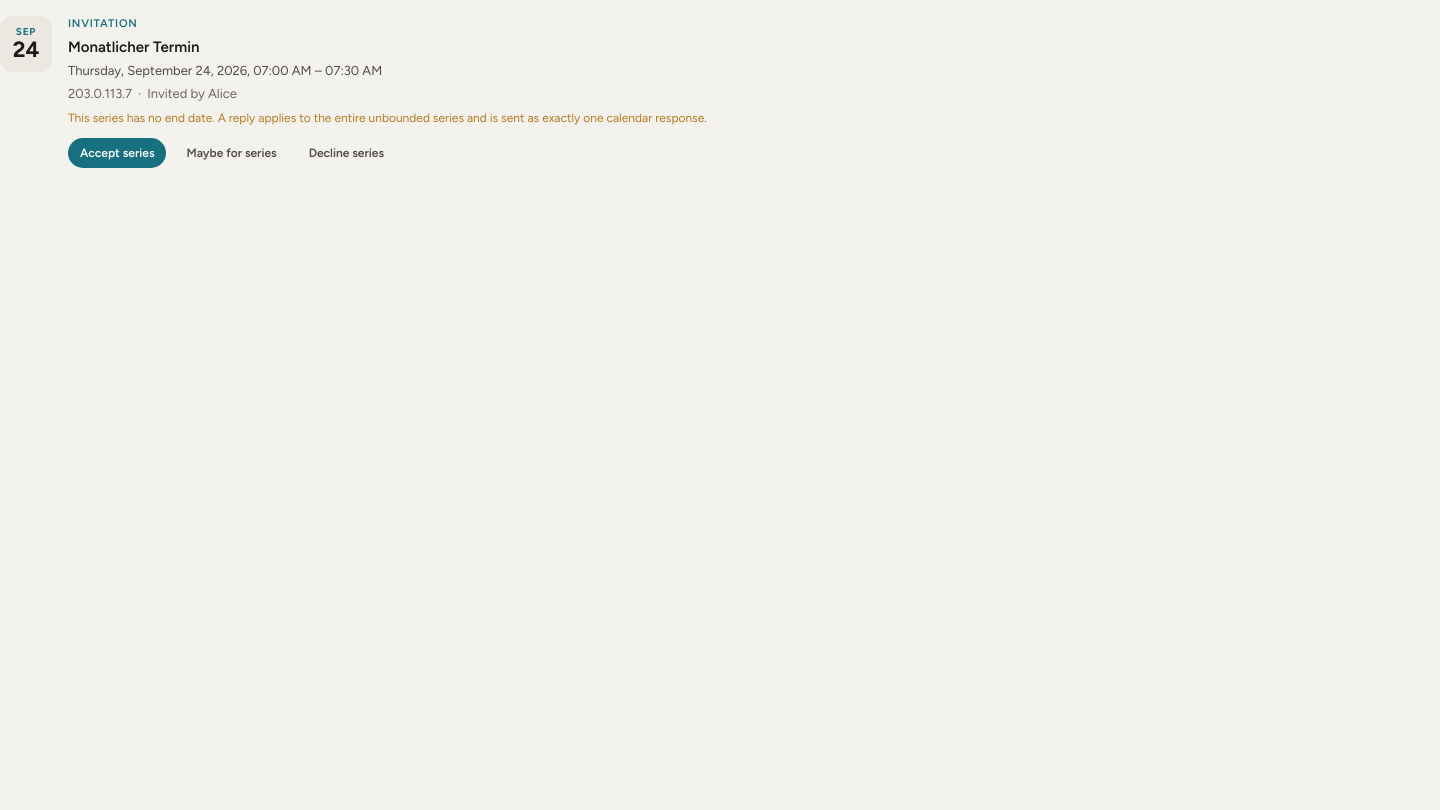
Scenario: invitation links › asks before opening a risky meeting location
The image size is (1440, 810).
Step 1. Click the button with class "meta__link" → (100,93), box x1=68 y1=84 x2=132 y2=103
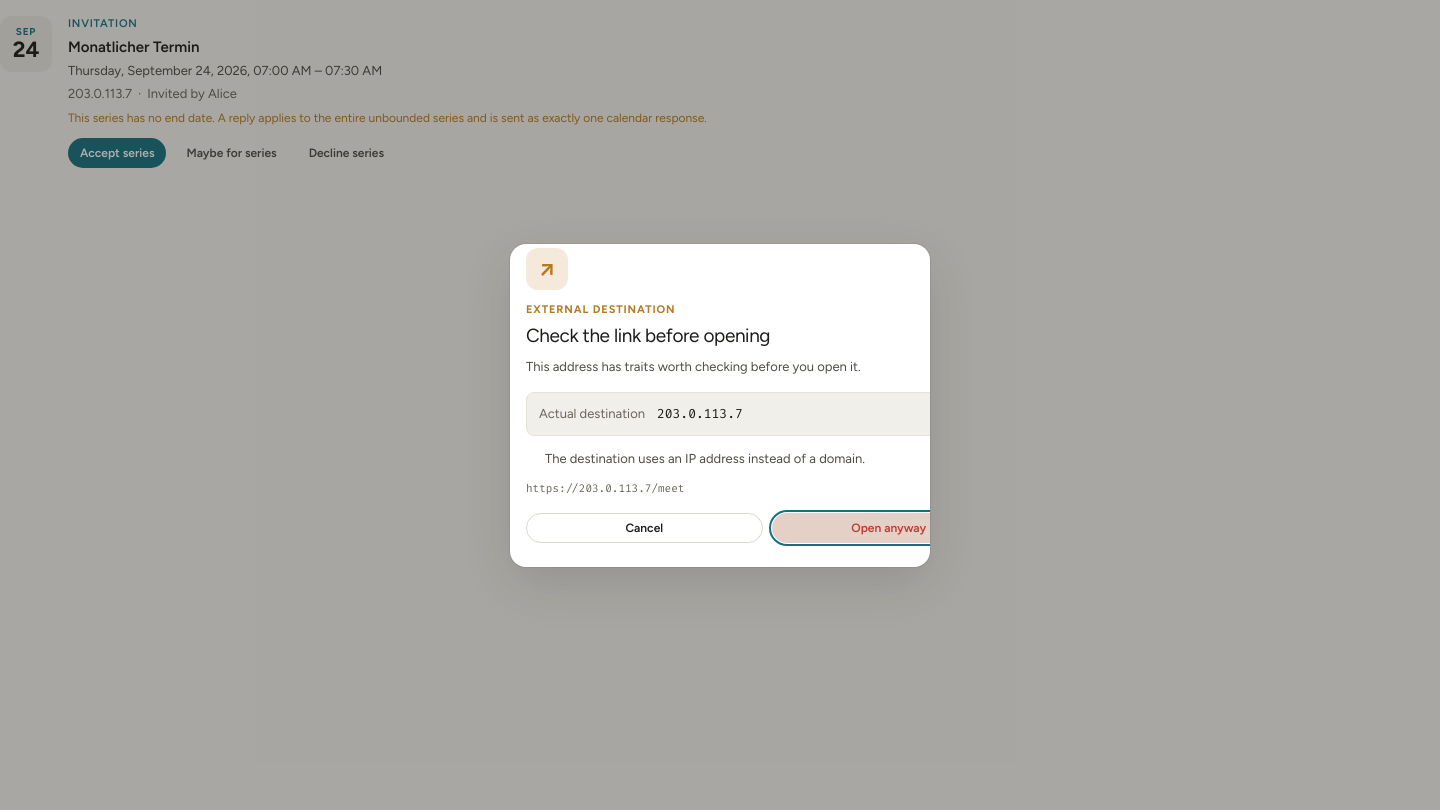
Expected: the text "IP address instead of a domain" is shown, x1=545 y1=450 x2=865 y2=466
